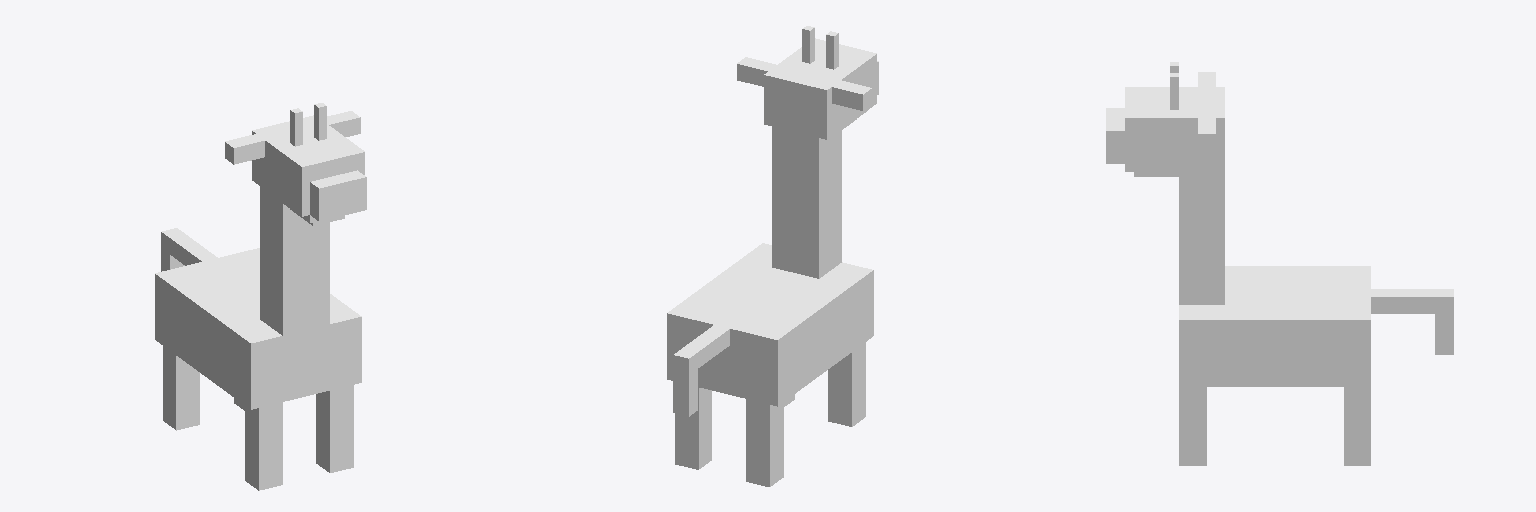
File: Giraffe.obj
3 views of the same model, side by side, from view 1: azimuth 30°, elevation 25°; view 2: azimuth 150°, elevation 25°; view 3: azimuth 270°, elevation 25° (orthographic).
Visible parts, largest first — view 1: Giraffe; view 2: Giraffe; view 3: Giraffe.
Part boxes in pixels (left/top/right/bottom): Giraffe: left=155, top=103, right=366, bottom=490; Giraffe: left=667, top=26, right=878, bottom=486; Giraffe: left=1106, top=62, right=1453, bottom=465.
Size of the model in its own units: 16 by 45 by 38.